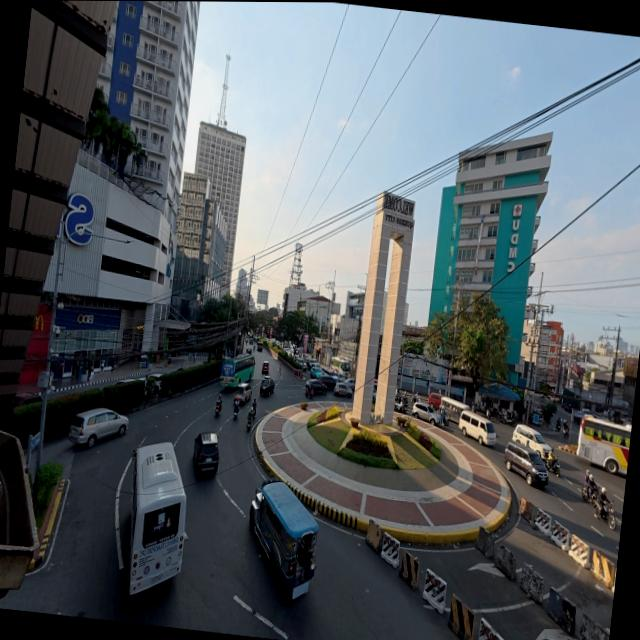Jeepneys: (248, 479, 317, 598), (439, 397, 469, 424)
bus: (128, 443, 185, 594), (576, 416, 631, 474), (220, 354, 253, 387), (330, 356, 350, 375)
car: (68, 408, 127, 448), (512, 425, 550, 457), (192, 432, 218, 474), (411, 402, 440, 424), (233, 383, 250, 405), (14, 393, 41, 406), (305, 379, 326, 394), (147, 373, 162, 393), (259, 376, 274, 396), (332, 382, 351, 397), (114, 377, 145, 386), (320, 374, 336, 389), (428, 393, 442, 409), (309, 366, 322, 380), (321, 368, 336, 379), (344, 379, 355, 391), (306, 358, 317, 369), (335, 372, 345, 383), (261, 362, 269, 374), (255, 343, 262, 351), (269, 338, 274, 344)
motorcycle: (594, 501, 615, 530), (580, 470, 596, 503), (543, 452, 560, 476), (501, 411, 514, 425), (471, 402, 484, 415), (394, 402, 406, 414), (440, 411, 449, 426), (214, 401, 222, 416), (304, 387, 314, 399), (555, 418, 562, 433), (246, 416, 252, 430), (562, 425, 568, 437), (232, 408, 238, 419), (251, 405, 255, 419)
vans: (503, 442, 547, 486), (458, 410, 495, 445)
